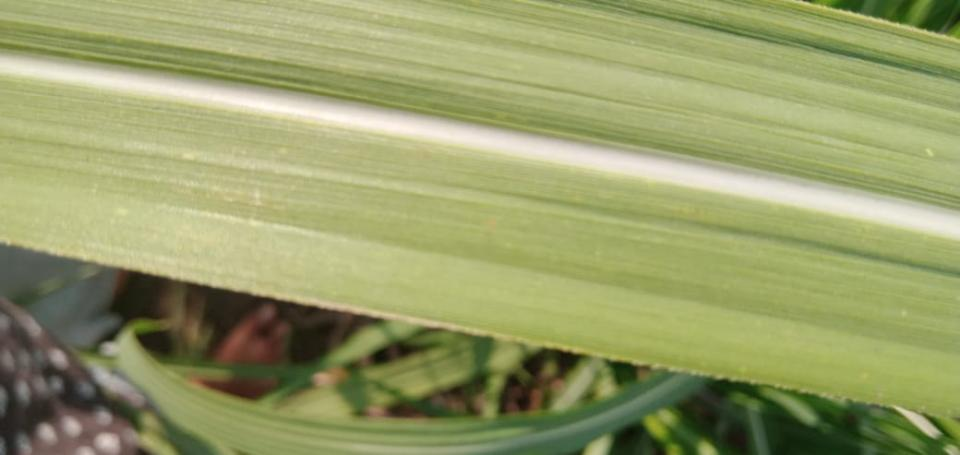Healthy: (0, 77, 959, 414), (0, 0, 959, 208)
